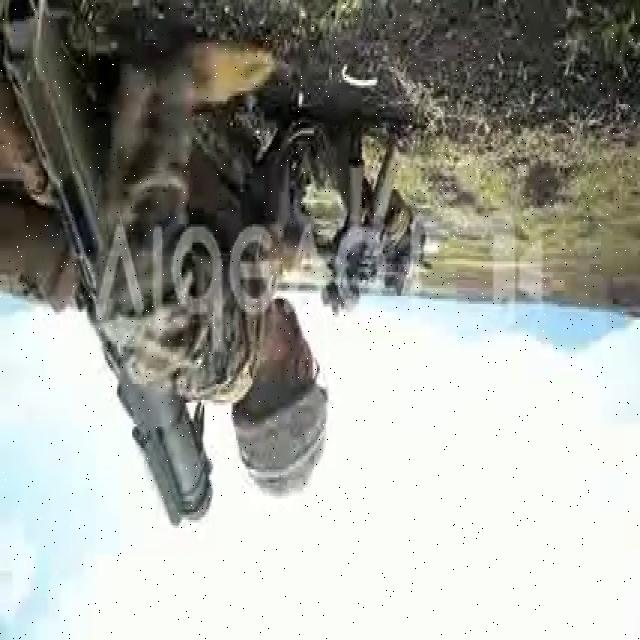bazooka: (3, 1, 217, 552)
